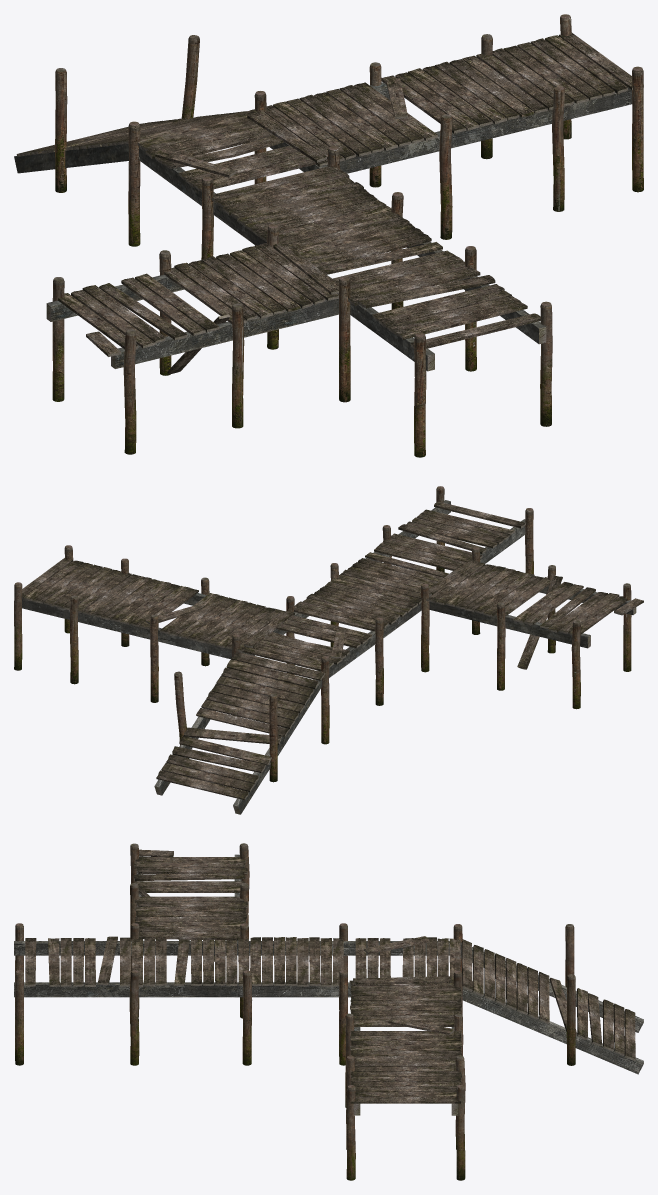
Rendered from BrokenWharf.FBX.
3 views of the same model, one above another, from view 1: azimuth 30°, elevation 25°; view 2: azimuth 150°, elevation 25°; view 3: azimuth 270°, elevation 25° (orthographic). The views are drawn at different scales.
Visible parts, largest first — view 1: BrokenWharf; view 2: BrokenWharf; view 3: BrokenWharf.
Part boxes in pixels (left/top/right/bottom): BrokenWharf: left=14, top=14, right=643, bottom=457; BrokenWharf: left=14, top=486, right=643, bottom=814; BrokenWharf: left=14, top=843, right=643, bottom=1180.
Size of the model in its own units: 19.67 by 20.76 by 3.8.
